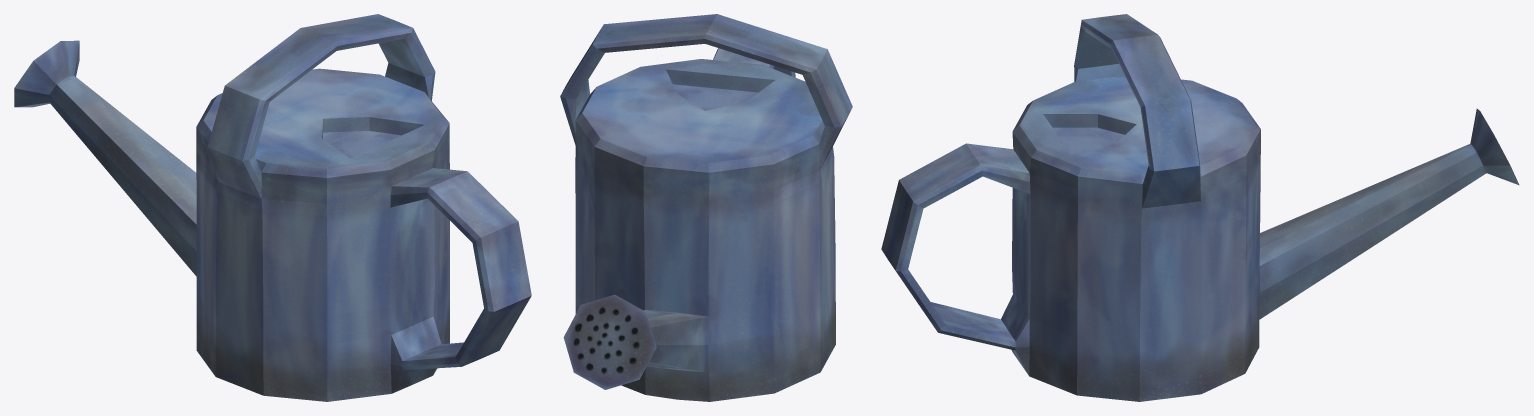
Rendered from WateringCan(Textured).fbx.
3 renders of one model, left to right at view 1: azimuth 30°, elevation 25°; view 2: azimuth 150°, elevation 25°; view 3: azimuth 270°, elevation 25°, orthographic. The views are drawn at different scales.
Visible parts, largest first — view 1: pTorus6; view 2: pTorus6; view 3: pTorus6.
Boxes of the visible parts, bbox=[...] form: pTorus6: bbox=[14, 14, 531, 401]; pTorus6: bbox=[560, 14, 852, 401]; pTorus6: bbox=[881, 14, 1519, 401].
Bounding box in the file's own units: 38.26 × 45.94 × 85.56.
1 material, 1 textured.
